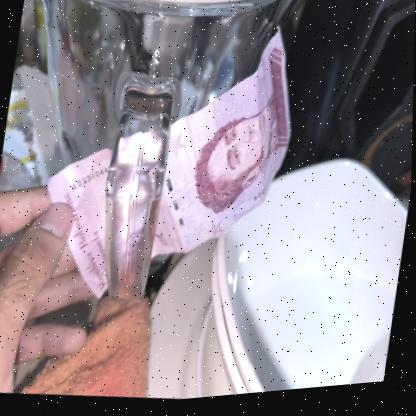one_hundred-front-vef: (31, 0, 307, 327)
